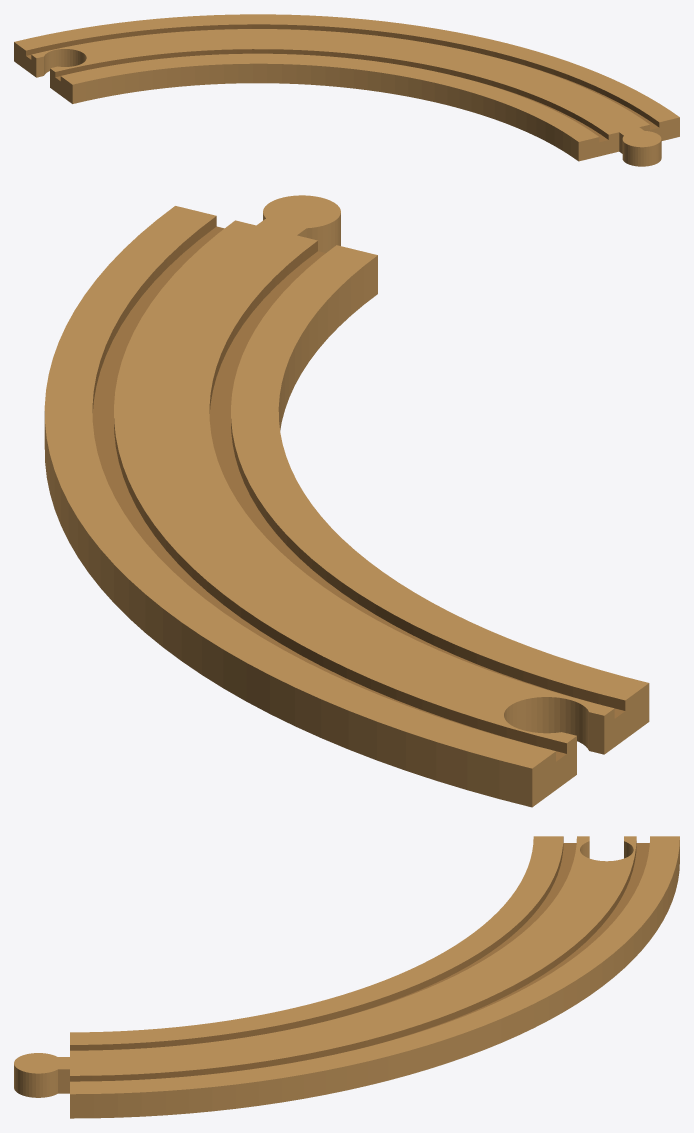
The picture shows the model from 3 angles, top to bottom: view 1: azimuth 30°, elevation 25°; view 2: azimuth 150°, elevation 25°; view 3: azimuth 270°, elevation 25°; orthographic projection. The views are drawn at different scales.
Visible parts, largest first — view 1: ContinuousGroovedPuzzleBoard; view 2: ContinuousGroovedPuzzleBoard; view 3: ContinuousGroovedPuzzleBoard.
Part boxes in pixels (x1,y1,x2,y2): ContinuousGroovedPuzzleBoard: (14, 14, 679, 166); ContinuousGroovedPuzzleBoard: (44, 195, 649, 807); ContinuousGroovedPuzzleBoard: (14, 836, 679, 1118).
Bounding box in the file's own units: 0.5 × 0.022 × 0.546.
